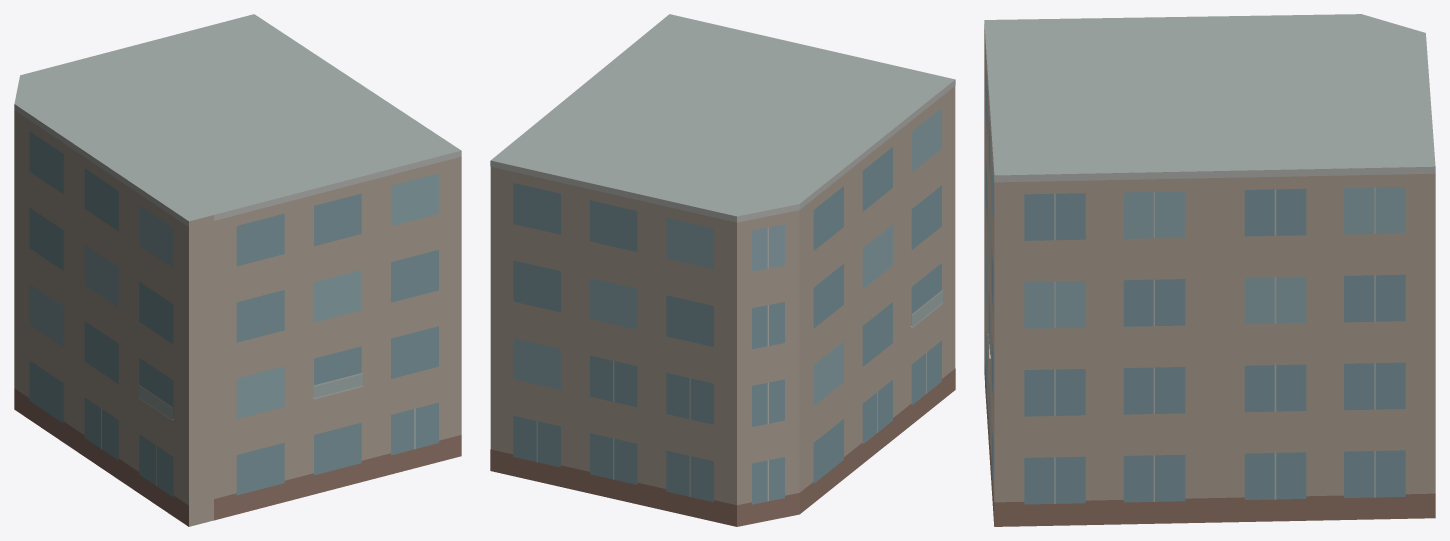
Rendered from survey-upis-32732787.glb.
The picture shows the model from 3 angles, left to right: view 1: azimuth 30°, elevation 25°; view 2: azimuth 150°, elevation 25°; view 3: azimuth 270°, elevation 25°; orthographic projection. The views are drawn at different scales.
Parts seen in each view (by area): view 1: survey-upis-32732787.tmp; view 2: survey-upis-32732787.tmp; view 3: survey-upis-32732787.tmp.
Part boxes in pixels (left/top/right/bottom): survey-upis-32732787.tmp: left=14, top=14, right=461, bottom=526; survey-upis-32732787.tmp: left=490, top=14, right=955, bottom=526; survey-upis-32732787.tmp: left=984, top=14, right=1435, bottom=526.
Bounding box in the file's own units: 12.23 × 12.4 × 14.44.
